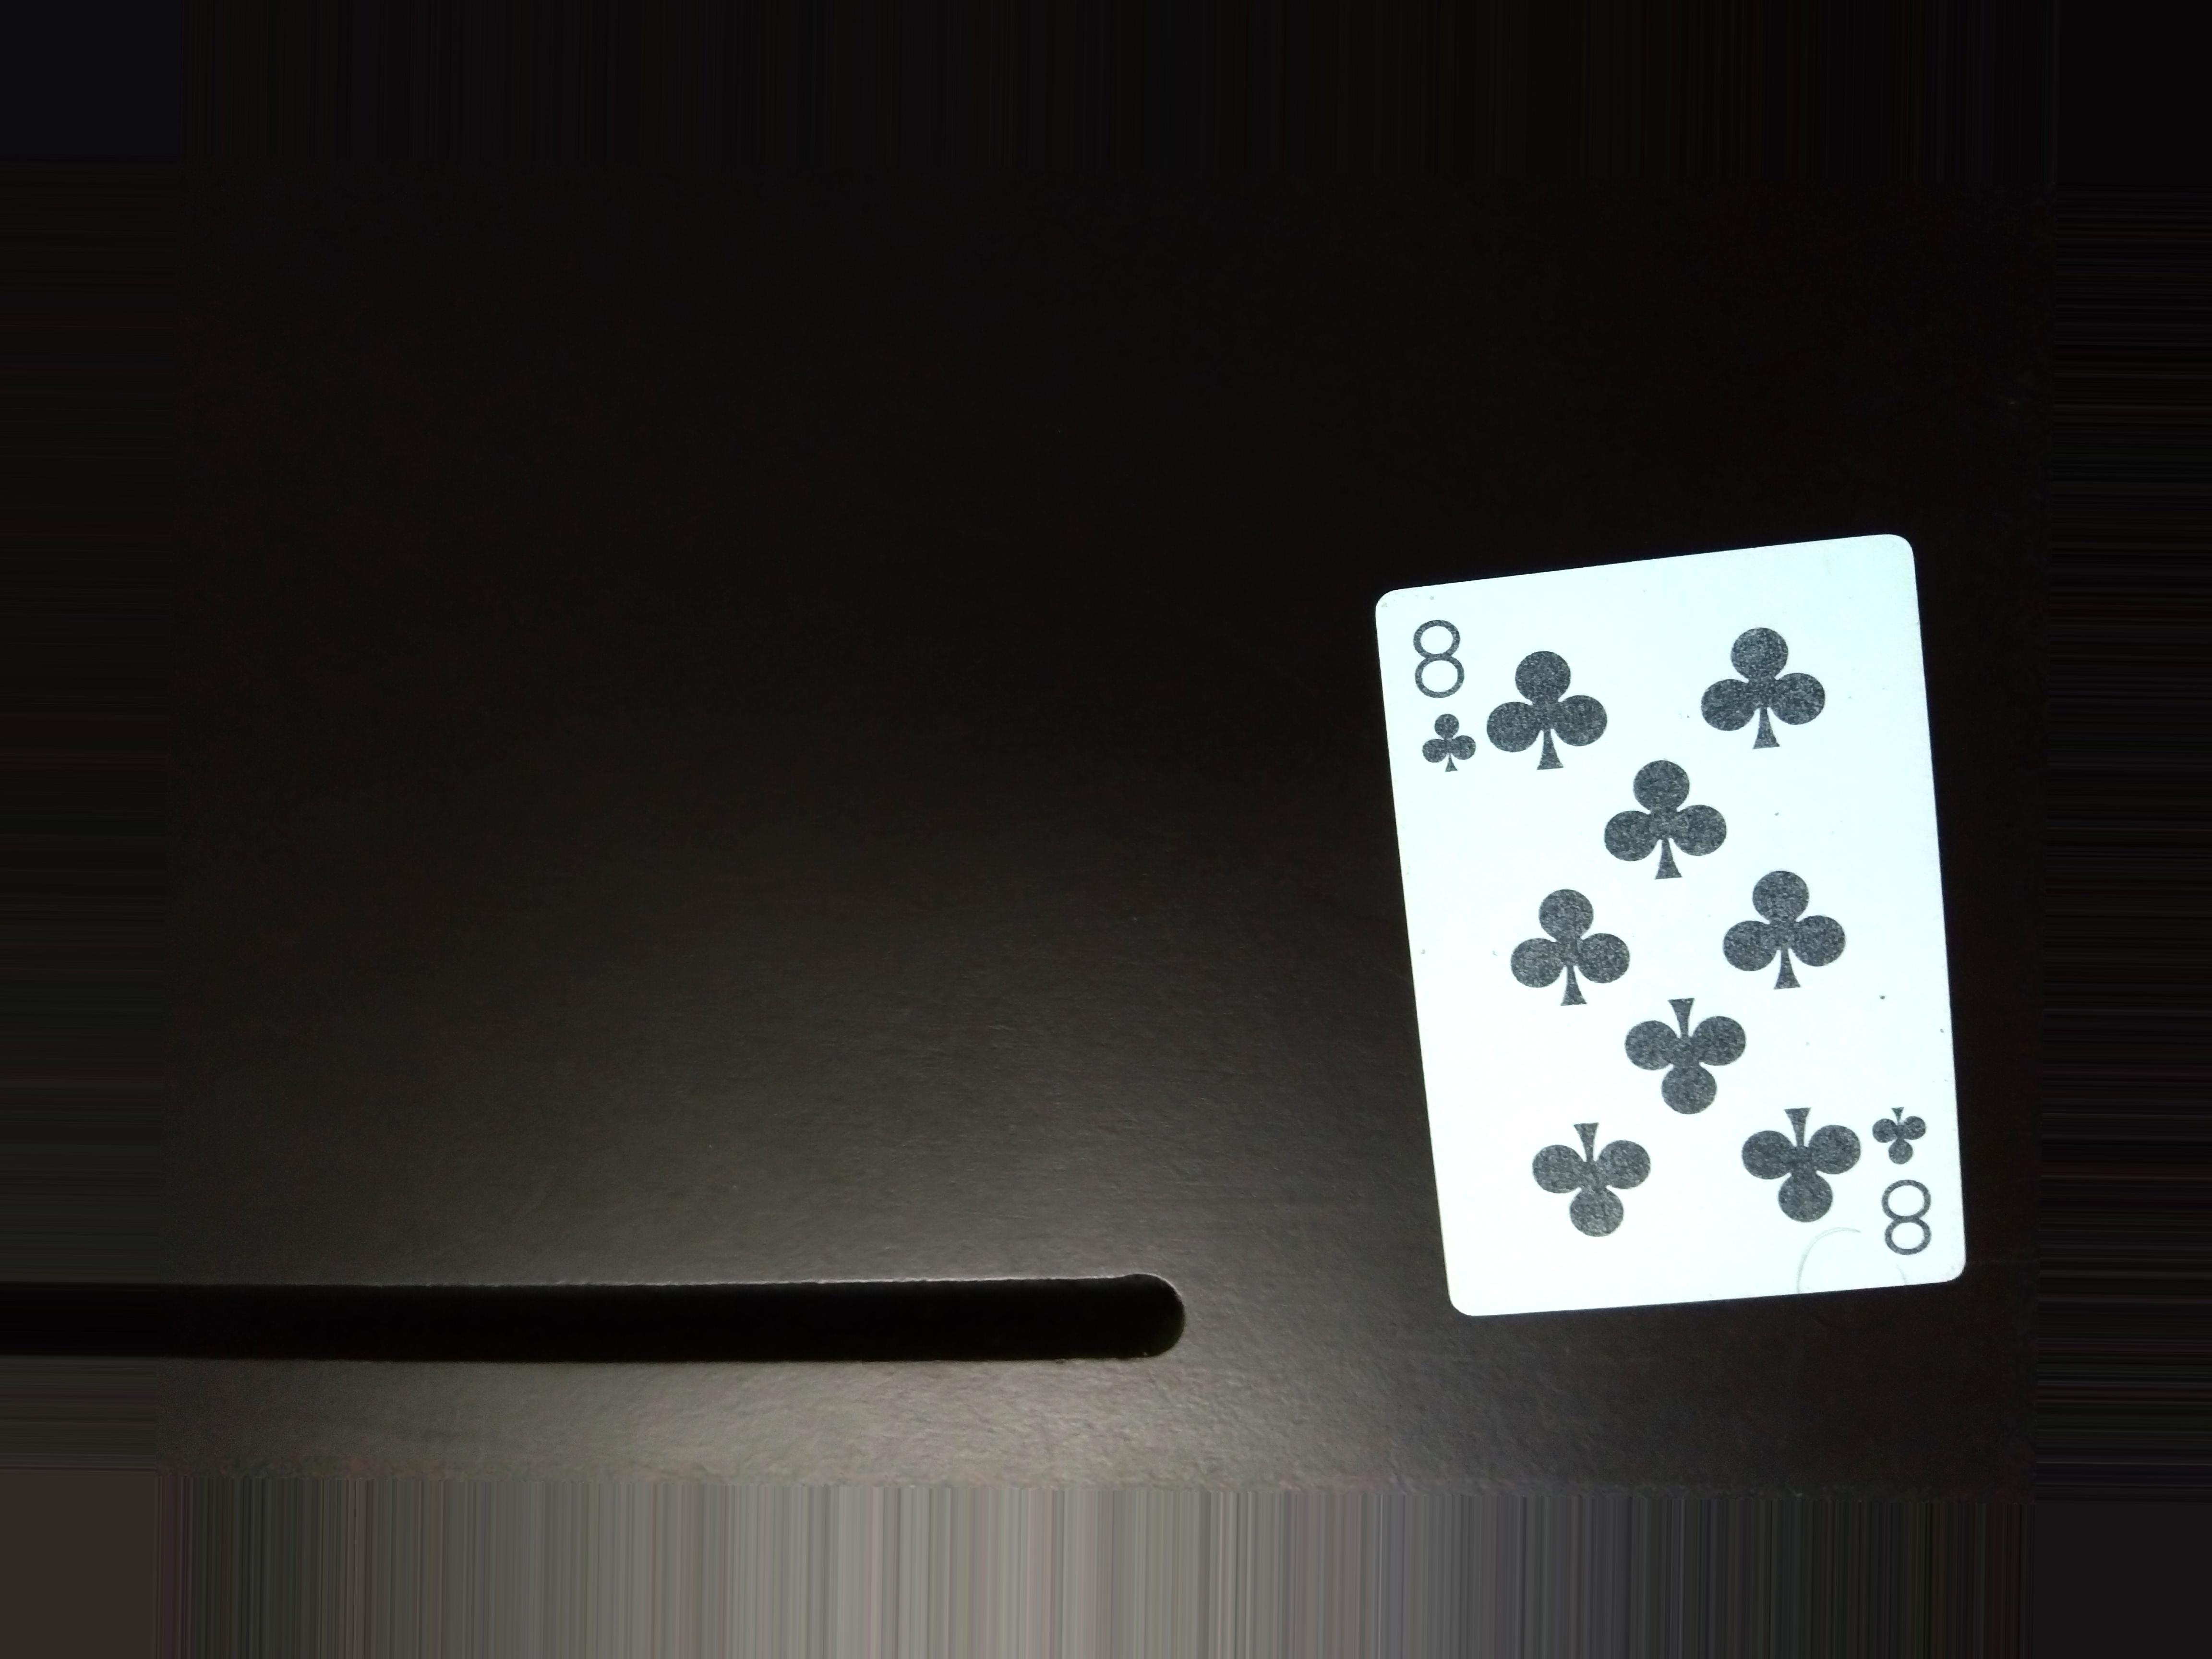8C: (1865, 1089, 1940, 1281)
